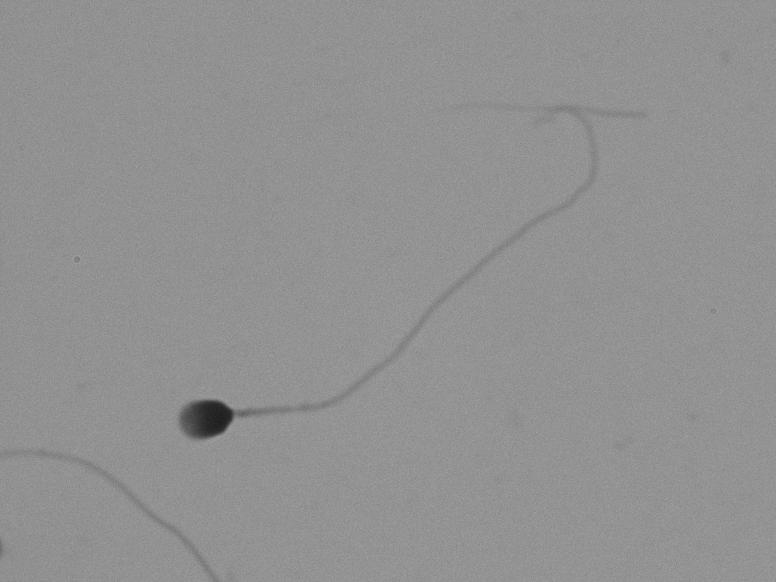Normal: (130, 67, 666, 509)
